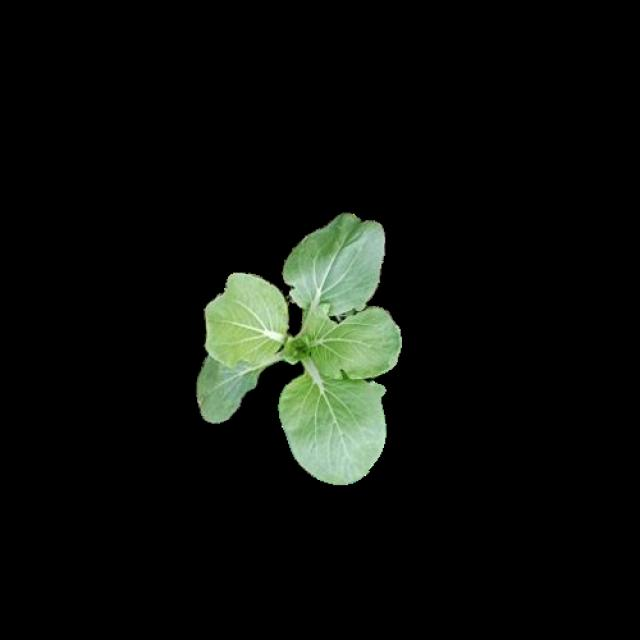not-mature: (196, 212, 402, 482)
unhealthy: (303, 302, 401, 379)
